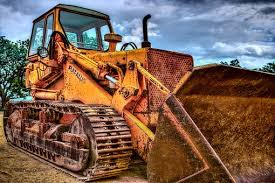bulldozer: (11, 7, 275, 183)
